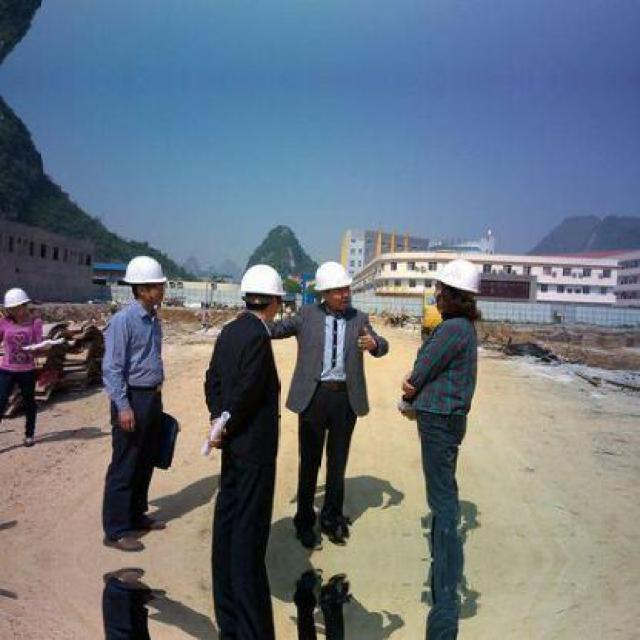helmet: (428, 252, 486, 320), (238, 263, 288, 321), (121, 252, 168, 308), (312, 259, 353, 313), (3, 283, 34, 323)
